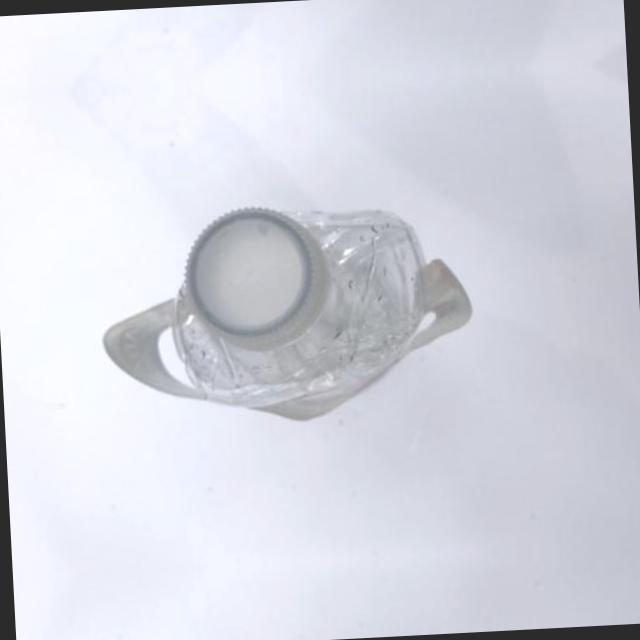Plastic: (88, 206, 493, 461)
